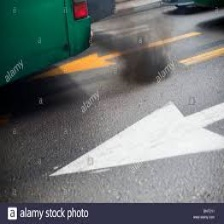smoke: (85, 26, 178, 91)
